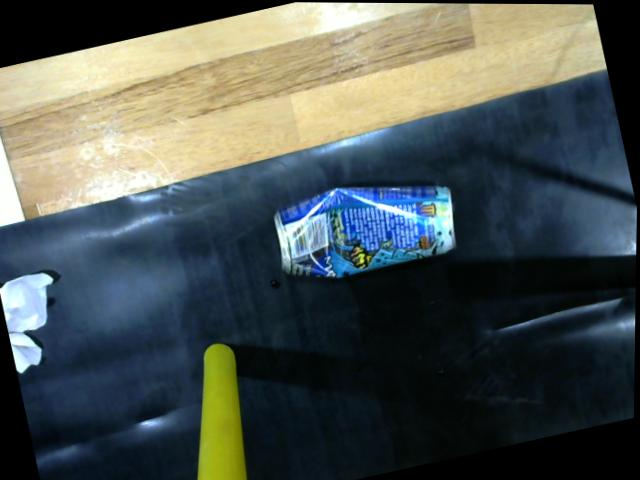can: (257, 171, 470, 294)
